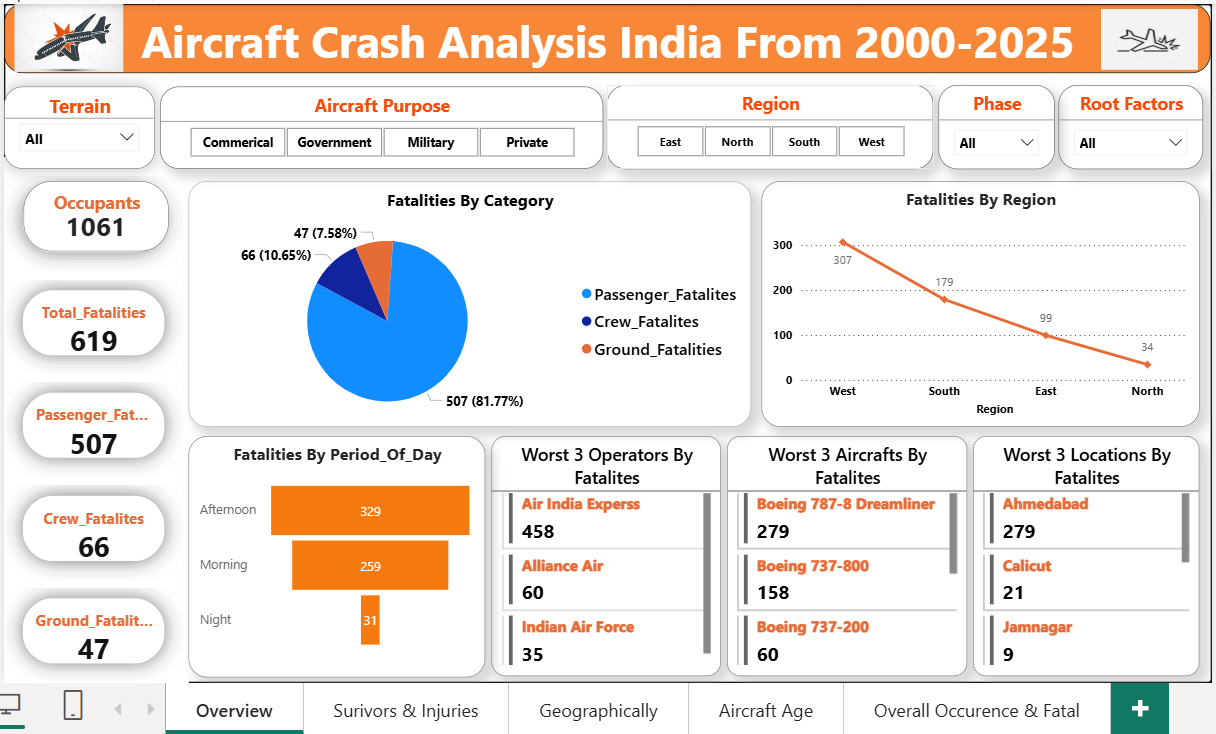

Layout of this report page (visuals, bound fields, positions):
{"tool":"powerbi","page":{"name":"Overview","canvas":[1280,720],"ordinal":0},"visuals":[{"type":"multiRowCard","title":"Worst 3 Operators By Fatalites","fields":{"Values":["Sum(Crash_Data.Total_Fatalities)","Crash_Data.Aircraft_Operator"]},"box":[517.2,458.3,243.5,254.6],"z":0},{"type":"multiRowCard","title":"Worst 3 Aircrafts By Fatalites","fields":{"Values":["Sum(Crash_Data.Total_Fatalities)","Crash_Data.Aircraft"]},"box":[767,458.3,254.6,254.6],"z":1000},{"type":"cardVisual","title":"saogfia","fields":{"Data":["Sum(Crash_Data.Total_Occupants)","Sum(Crash_Data.Total_Fatalities)","Sum(Crash_Data.Passenger_Fatalites)","Sum(Crash_Data.Crew_Fatalites)","Sum(Crash_Data.Ground_Fatalities)"]},"box":[0,162.3,195.7,558.6],"z":2000},{"type":"pieChart","title":"Fatalities By Category","fields":{"Y":["Sum(Crash_Data.Passenger_Fatalites)","Sum(Crash_Data.Crew_Fatalites)","Sum(Crash_Data.Ground_Fatalities)"]},"box":[195.7,187,596.8,261],"z":3000},{"type":"lineChart","title":"Fatalities By Region","fields":{"Category":["Crash_Data.Region"],"Y":["Sum(Crash_Data.Total_Fatalities)"]},"box":[803.3,187.7,464.5,260.9],"z":4000},{"type":"funnel","title":" Fatalities By Period_Of_Day","fields":{"Category":["Crash_Data.Period_Of_Day"],"Y":["Sum(Crash_Data.Total_Fatalities)"]},"box":[195.7,459,315.1,254.6],"z":5000},{"type":"slicer","title":"Terrain","fields":{"Values":["Crash_Data.Terrain"]},"box":[0,87.5,160,87.5],"z":6000},{"type":"multiRowCard","title":"Worst 3 Locaions By Fatalites","fields":{"Values":["Crash_Data.Location","Sum(Crash_Data.Total_Fatalities)"]},"box":[1028,458.3,240.3,254.6],"z":7000},{"type":"textbox","title":"Aircraft Crash Analysis India From 2000-2025 ","box":[0,0,1279.5,73.2],"z":8000},{"type":"image","box":[11.1,0,135.3,73.2],"z":9000},{"type":"slicer","title":"Aircraft Purpose","fields":{"Values":["Crash_Data.Aircraft_Purpose"]},"box":[165.5,87.5,470,87.5],"z":10000},{"type":"slicer","title":"Region","fields":{"Values":["Crash_Data.Region"]},"box":[639.7,85.9,346,89.1],"z":11000},{"type":"slicer","title":"Root Factors","fields":{"Values":["Crash_Data.Root_Factors"]},"box":[1118.7,85.9,153,89.1],"z":12000},{"type":"slicer","title":"Phase","fields":{"Values":["Crash_Data.Crash_Phase"]},"box":[991.4,85.9,123,89.1],"z":13000},{"type":"image","box":[1158.5,0,113,74.8],"z":14000},{"type":"card","title":"Occupants","fields":{"Values":["Sum(Crash_Data.Total_Occupants)"]},"box":[20.7,187.7,154.3,74.8],"z":15000}]}

Visuals, with their boxes on the page's 1280x720 design canvas (x1, y1, x2, y2). These are canvas units, not pixel positions in the 1216x734 screenshot, which may show the page scaled, cropped or inside an application window:
"Worst 3 Operators By Fatalites" multiRowCard: locate(517, 458, 761, 713)
"Worst 3 Aircrafts By Fatalites" multiRowCard: locate(767, 458, 1022, 713)
"saogfia" cardVisual: locate(0, 162, 196, 721)
"Fatalities By Category" pieChart: locate(196, 187, 792, 448)
"Fatalities By Region" lineChart: locate(803, 188, 1268, 449)
" Fatalities By Period_Of_Day" funnel: locate(196, 459, 511, 714)
"Terrain" slicer: locate(0, 88, 160, 175)
"Worst 3 Locaions By Fatalites" multiRowCard: locate(1028, 458, 1268, 713)
"Aircraft Crash Analysis India From 2000-2025 " textbox: locate(0, 0, 1280, 73)
image: locate(11, 0, 146, 73)
"Aircraft Purpose" slicer: locate(166, 88, 636, 175)
"Region" slicer: locate(640, 86, 986, 175)
"Root Factors" slicer: locate(1119, 86, 1272, 175)
"Phase" slicer: locate(991, 86, 1114, 175)
image: locate(1158, 0, 1272, 75)
"Occupants" card: locate(21, 188, 175, 262)
